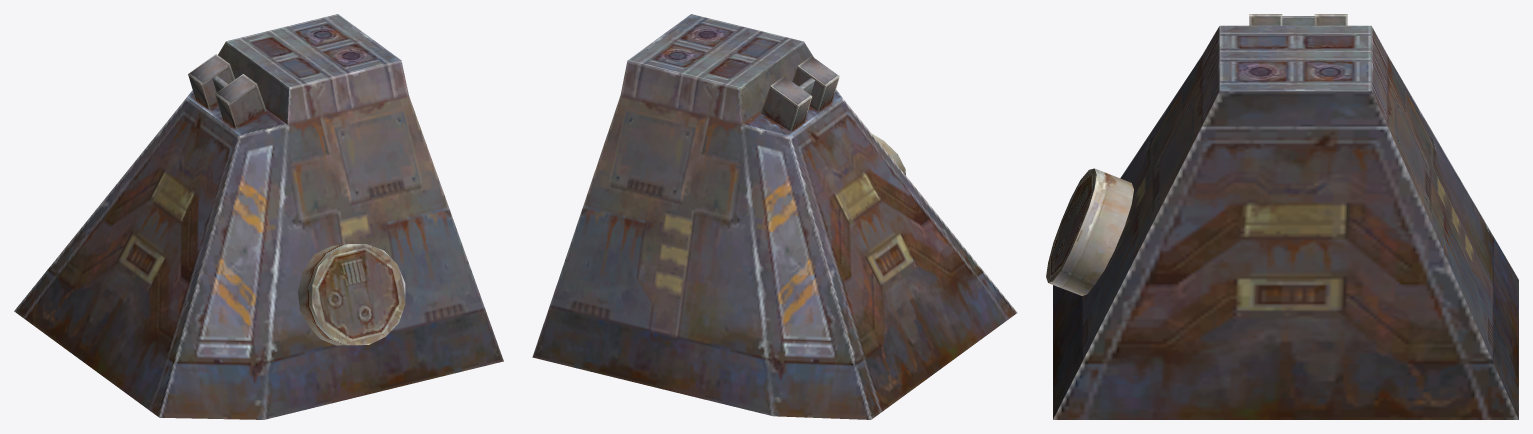
File: tyt_arch_fleshraider_junk_06.glb
The picture shows the model from 3 angles, left to right: view 1: azimuth 30°, elevation 25°; view 2: azimuth 150°, elevation 25°; view 3: azimuth 270°, elevation 25°; orthographic projection. The views are drawn at different scales.
Parts seen in each view (by area): view 1: tyt_arch_fleshraider_junk_06; view 2: tyt_arch_fleshraider_junk_06; view 3: tyt_arch_fleshraider_junk_06.
Part boxes in pixels (x1,y1,x2,y2): tyt_arch_fleshraider_junk_06: (14,14,503,419); tyt_arch_fleshraider_junk_06: (532,14,1017,419); tyt_arch_fleshraider_junk_06: (1046,14,1518,419).
Bounding box in the file's own units: 0.3301 × 0.2575 × 0.3567.
Materials: 1 (1 with a texture image).
